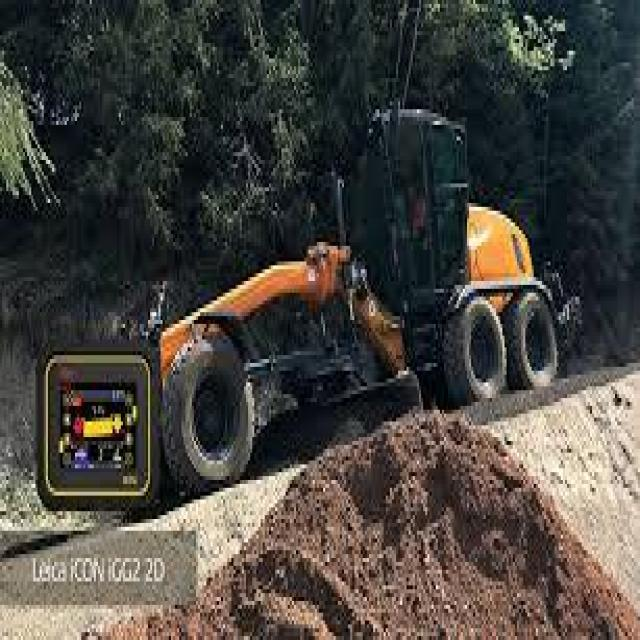buldozerpayloadergrader: (77, 110, 592, 542)
